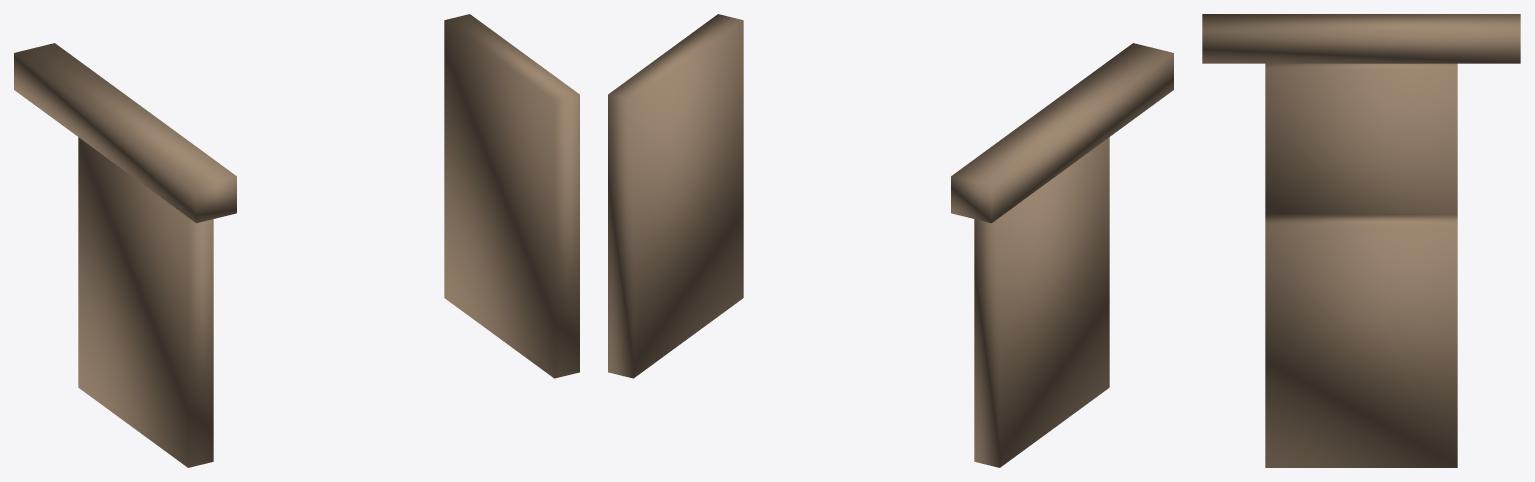
The model's file is luggage_rack__tall.glb.
3 renders of one model, left to right at view 1: azimuth 30°, elevation 25°; view 2: azimuth 150°, elevation 25°; view 3: azimuth 270°, elevation 25°, orthographic. The views are drawn at different scales.
Visible parts, largest first — view 1: world; view 2: world; view 3: world.
Part boxes in pixels (x1,y1,x2,y2): world: (14, 14, 579, 467); world: (608, 14, 1173, 467); world: (1202, 14, 1520, 467).
Bounding box in the file's own units: 0.825 × 0.5916 × 0.62.
